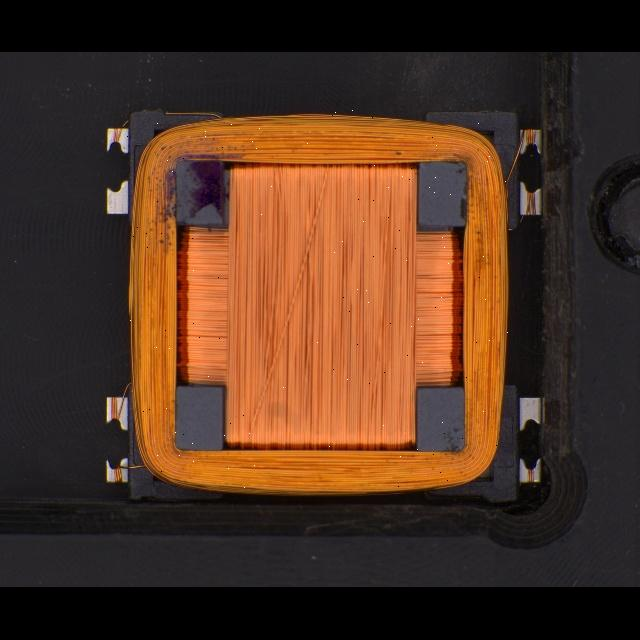Winding_Z: (122, 109, 514, 498)
